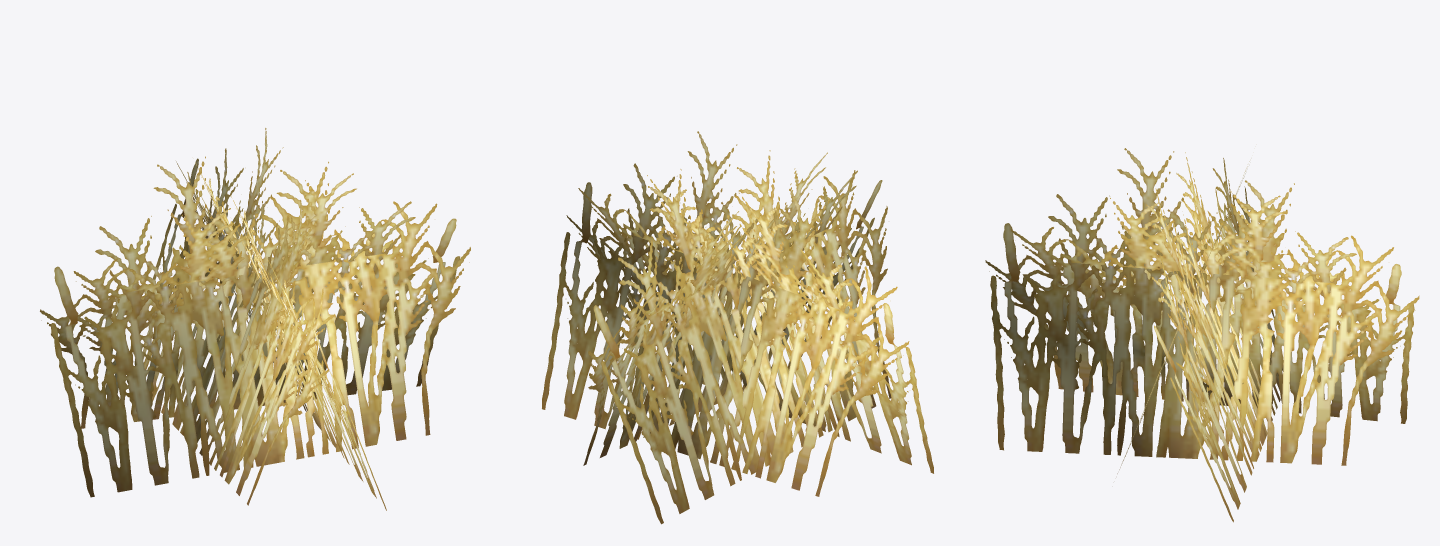
File: cross_angledfromtop.glb
The picture shows the model from 3 angles, left to right: view 1: azimuth 30°, elevation 25°; view 2: azimuth 150°, elevation 25°; view 3: azimuth 270°, elevation 25°; orthographic projection. The views are drawn at different scales.
Visible parts, largest first — view 1: cross_angledfromtop; view 2: cross_angledfromtop; view 3: cross_angledfromtop.
Part boxes in pixels (bbox=[...]): cross_angledfromtop: bbox=[40, 128, 470, 510]; cross_angledfromtop: bbox=[542, 131, 933, 524]; cross_angledfromtop: bbox=[985, 148, 1419, 522].
Bounding box in the file's own units: 4.94 × 4.02 × 4.94.
1 material, 1 textured.
